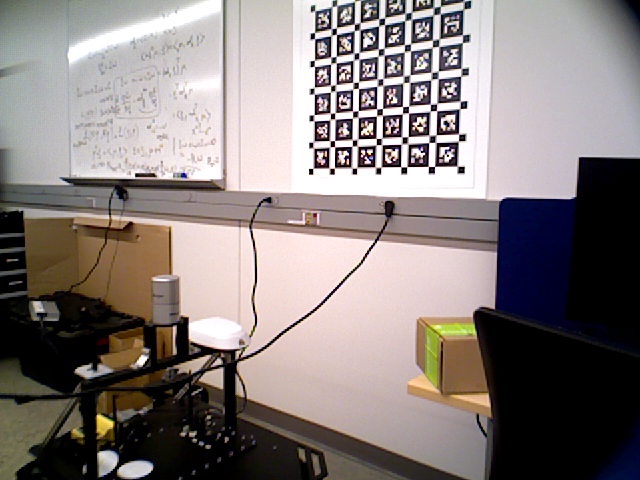painting4: (294, 1, 484, 199)
